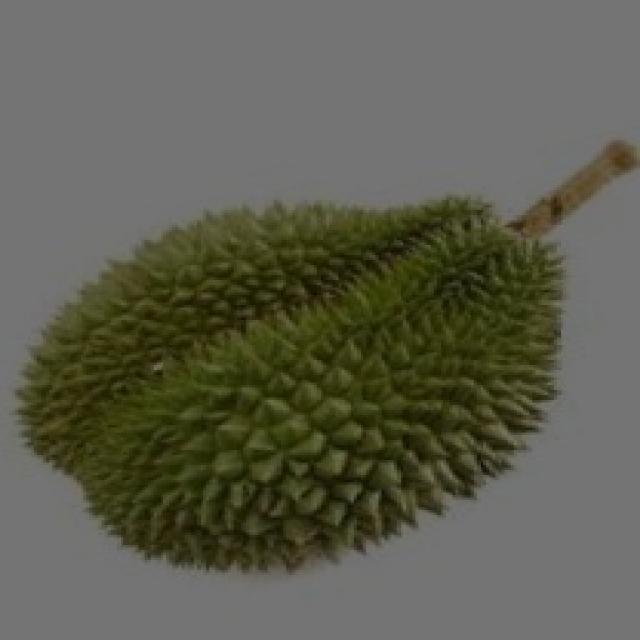fruit: (240, 188, 606, 610), (0, 205, 363, 620)
